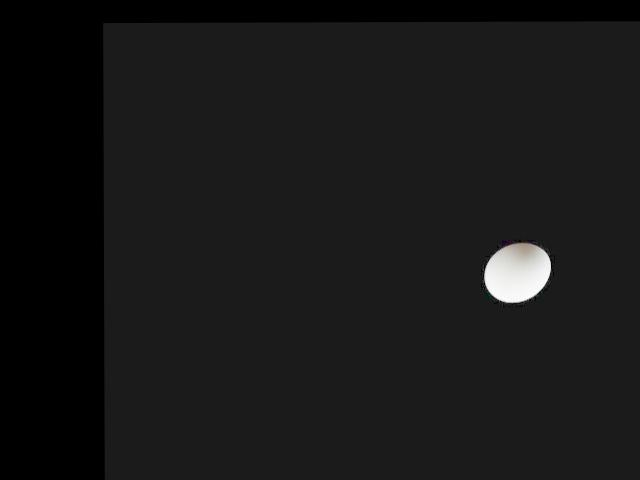egg: (485, 243, 551, 302)
